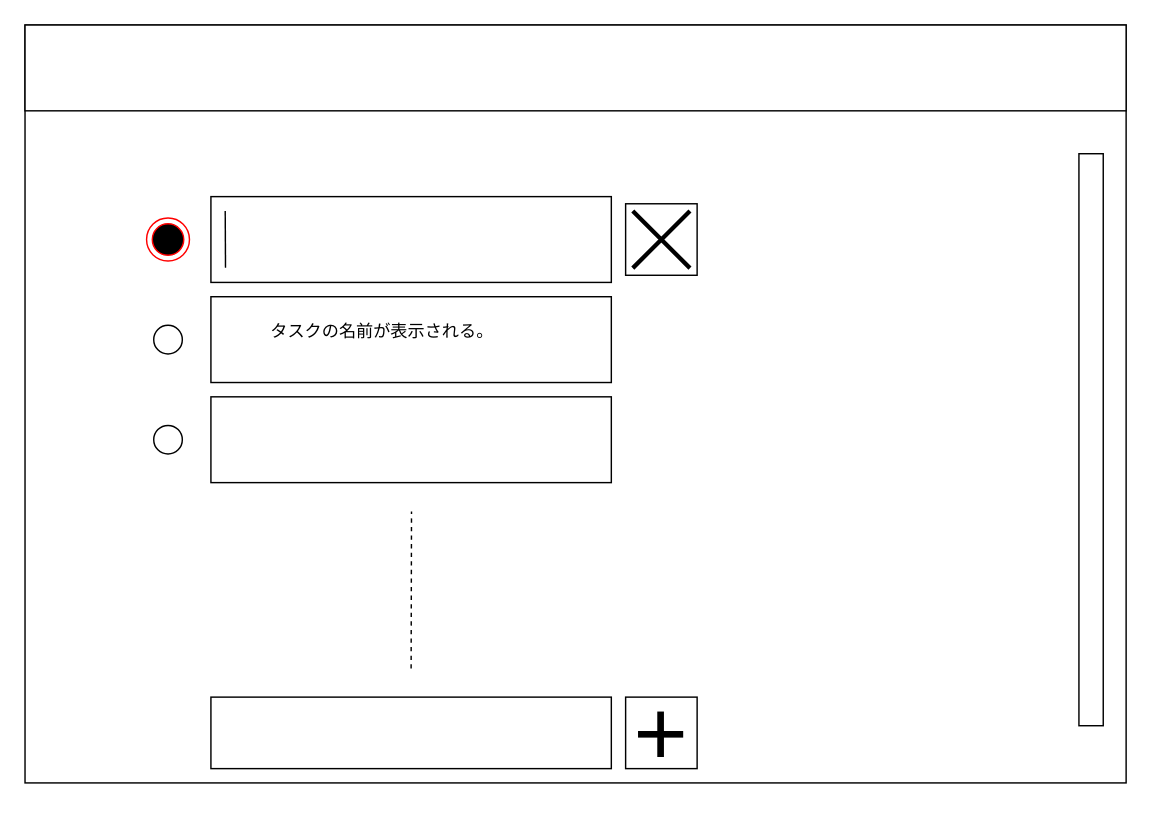
This 1151x814 diagram has some shape labels left out. Each missing label, with the box of its shape:
ラジオボタンを選択するとタスクの編集、削除ができる。: (209, 195, 611, 282)
追加したいタスクの名前を入力して右のボタンを押すと追加できる。: (209, 696, 611, 769)
